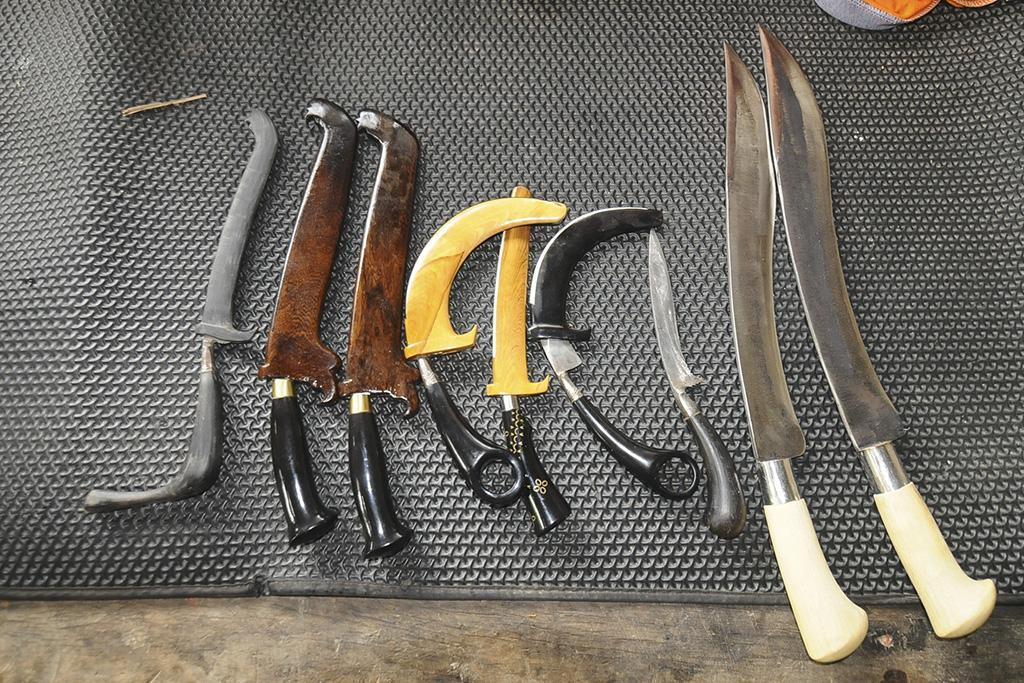facao: (756, 23, 997, 642), (713, 44, 865, 659), (156, 107, 272, 501), (352, 108, 430, 546), (274, 96, 341, 532), (485, 188, 545, 479)
foice: (411, 192, 541, 502), (533, 200, 660, 458)
